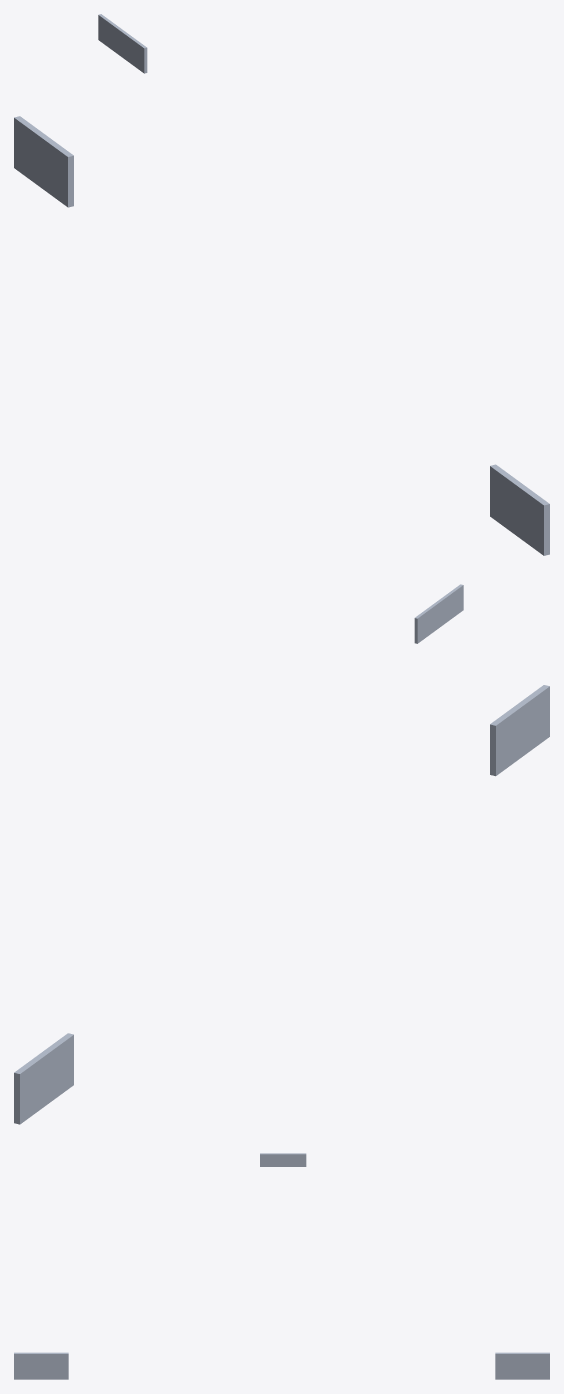
Rendered from Mirrors.glb.
The picture shows the model from 3 angles, top to bottom: view 1: azimuth 30°, elevation 25°; view 2: azimuth 150°, elevation 25°; view 3: azimuth 270°, elevation 25°; orthographic projection. The views are drawn at different scales.
Parts seen in each view (by area): view 1: Cube.125; view 2: Cube.125; view 3: Cube.125.
Boxes of the visible parts, box(x1,y1,x2,y2) form: Cube.125: box(14, 14, 549, 555); Cube.125: box(14, 584, 549, 1124); Cube.125: box(14, 1153, 549, 1379).
Size of the model in its own units: 0.0162 by 0.0349 by 0.0912.
Materials: 1 (1 with a texture image).
